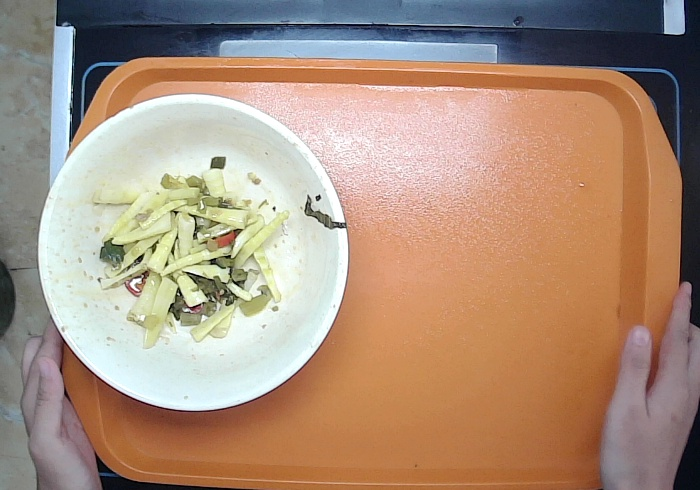ZNLD-Da_Tang_Wan: (33, 91, 353, 417)
